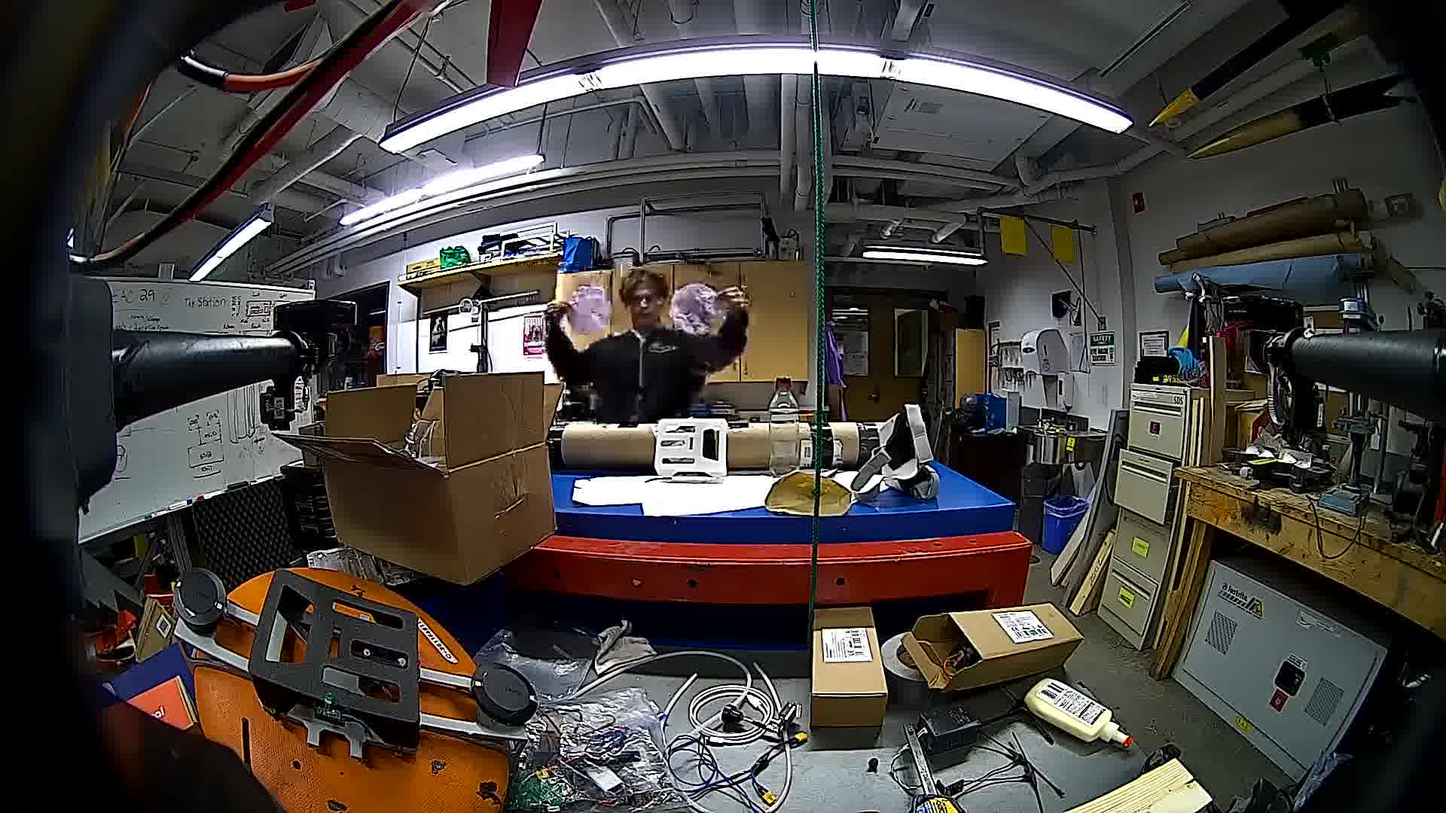Target: (670, 281, 720, 337), (567, 286, 612, 335)
